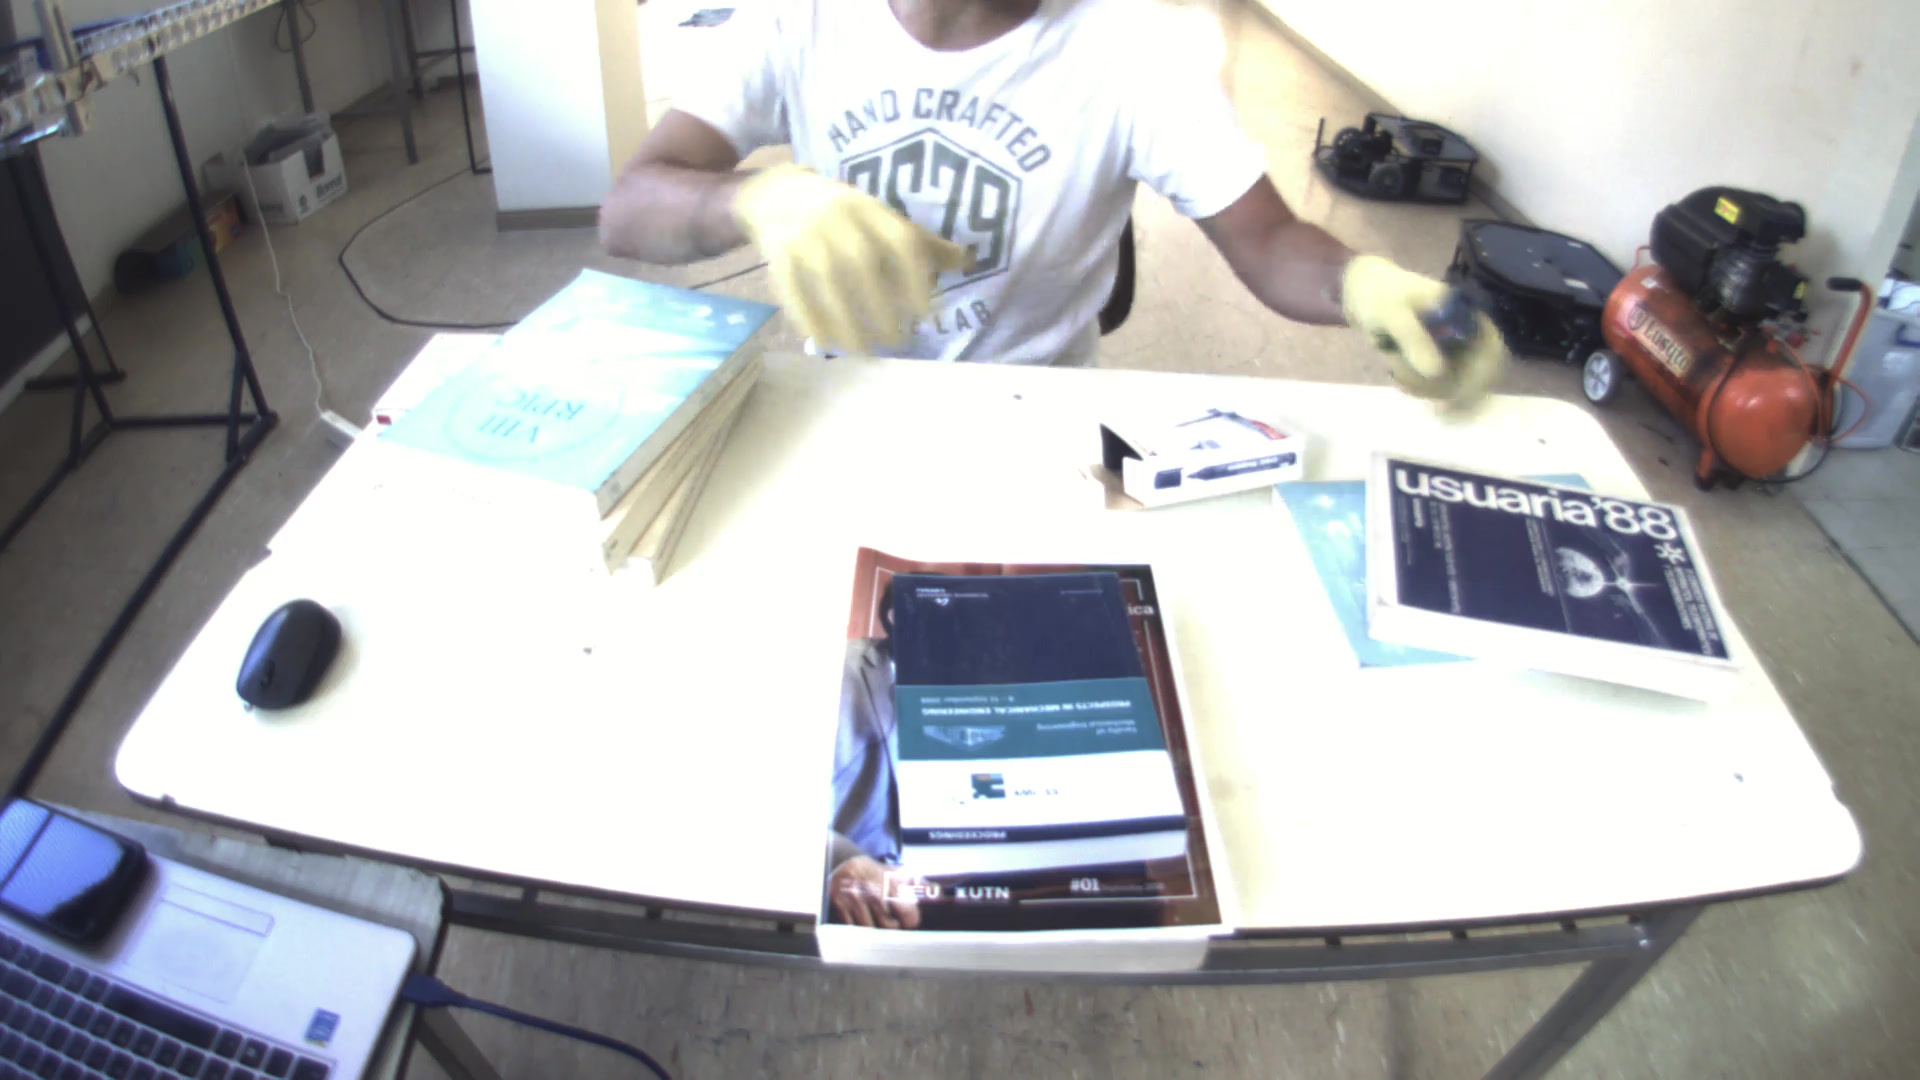hand: (733, 154, 988, 349), (1329, 235, 1514, 415)
